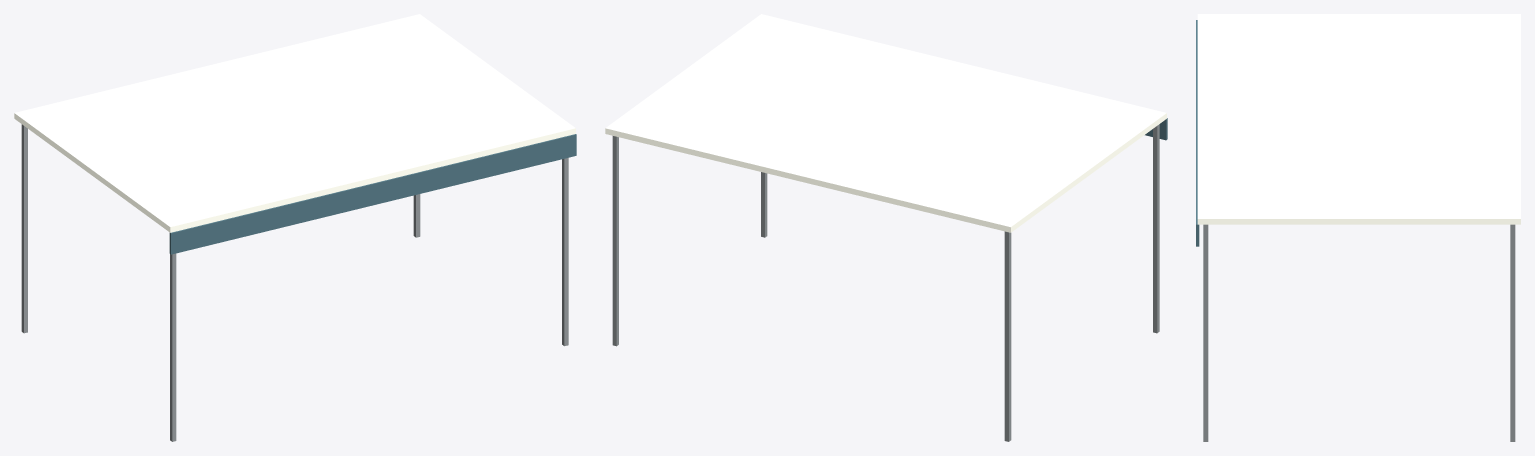
File: endurance-and-gt-paddock-garage-awning-56cf40f8__14853.glb
The picture shows the model from 3 angles, left to right: view 1: azimuth 30°, elevation 25°; view 2: azimuth 150°, elevation 25°; view 3: azimuth 270°, elevation 25°; orthographic projection. The views are drawn at different scales.
Visible parts, largest first — view 1: garage-awning; view 2: garage-awning; view 3: garage-awning.
Boxes of the visible parts, x1,y1,x2,y2 form: garage-awning: (14, 14, 576, 441); garage-awning: (605, 14, 1167, 441); garage-awning: (1196, 14, 1520, 441).
Bounding box in the file's own units: 6 × 3.08 × 4.02.
